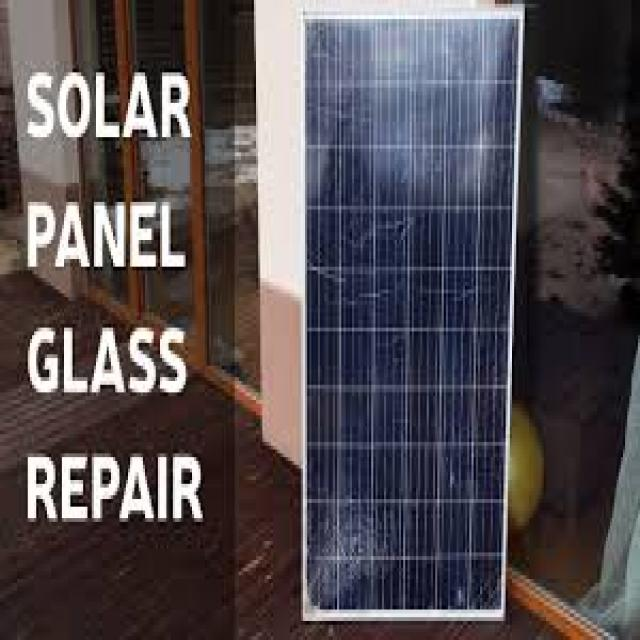faulty: (299, 24, 503, 617)
